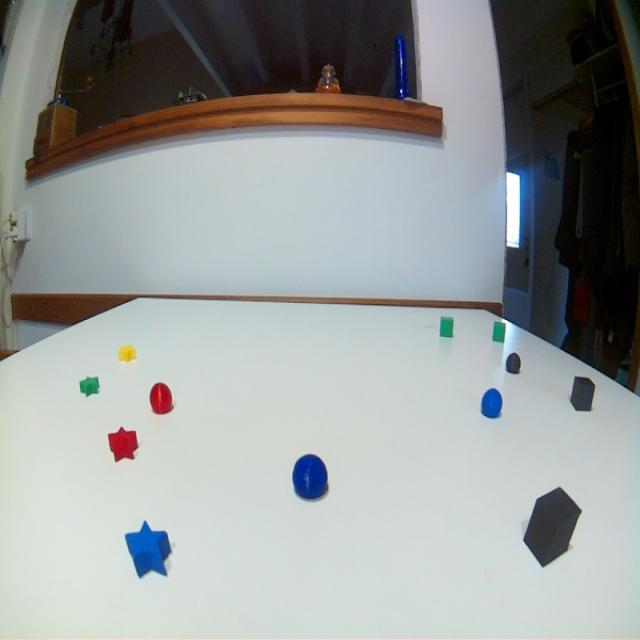ball: (292, 451, 328, 504), (148, 379, 174, 416), (479, 384, 505, 421), (502, 350, 523, 375)
cube: (523, 483, 582, 573), (568, 372, 598, 416), (437, 314, 457, 341), (490, 317, 508, 345)
star: (122, 518, 176, 586), (107, 424, 142, 465), (77, 374, 102, 399), (114, 340, 137, 366)
